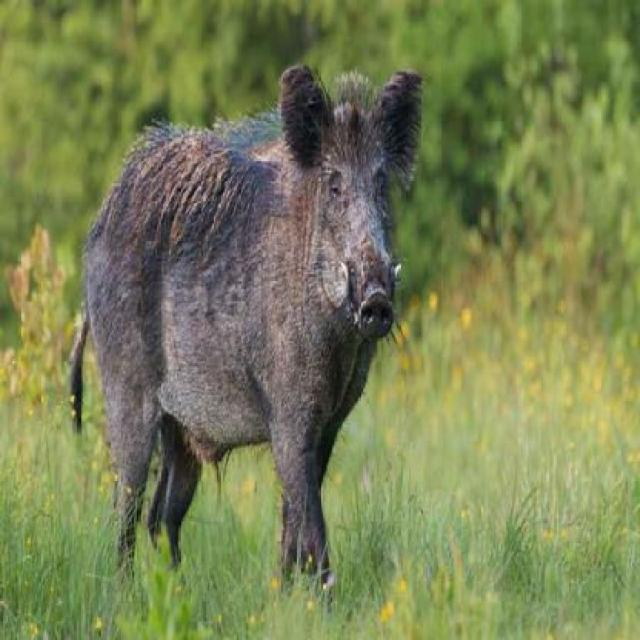wildboar: (64, 58, 424, 598)
